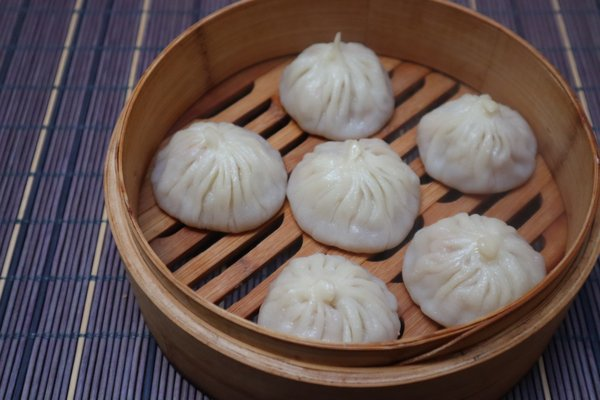pasta: (417, 92, 537, 195)
sushi: (101, 0, 599, 393)
